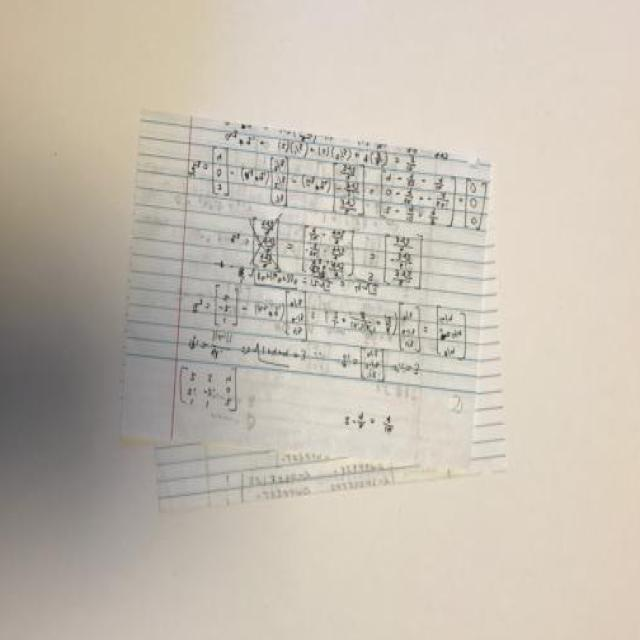kertas: (119, 104, 507, 516)
